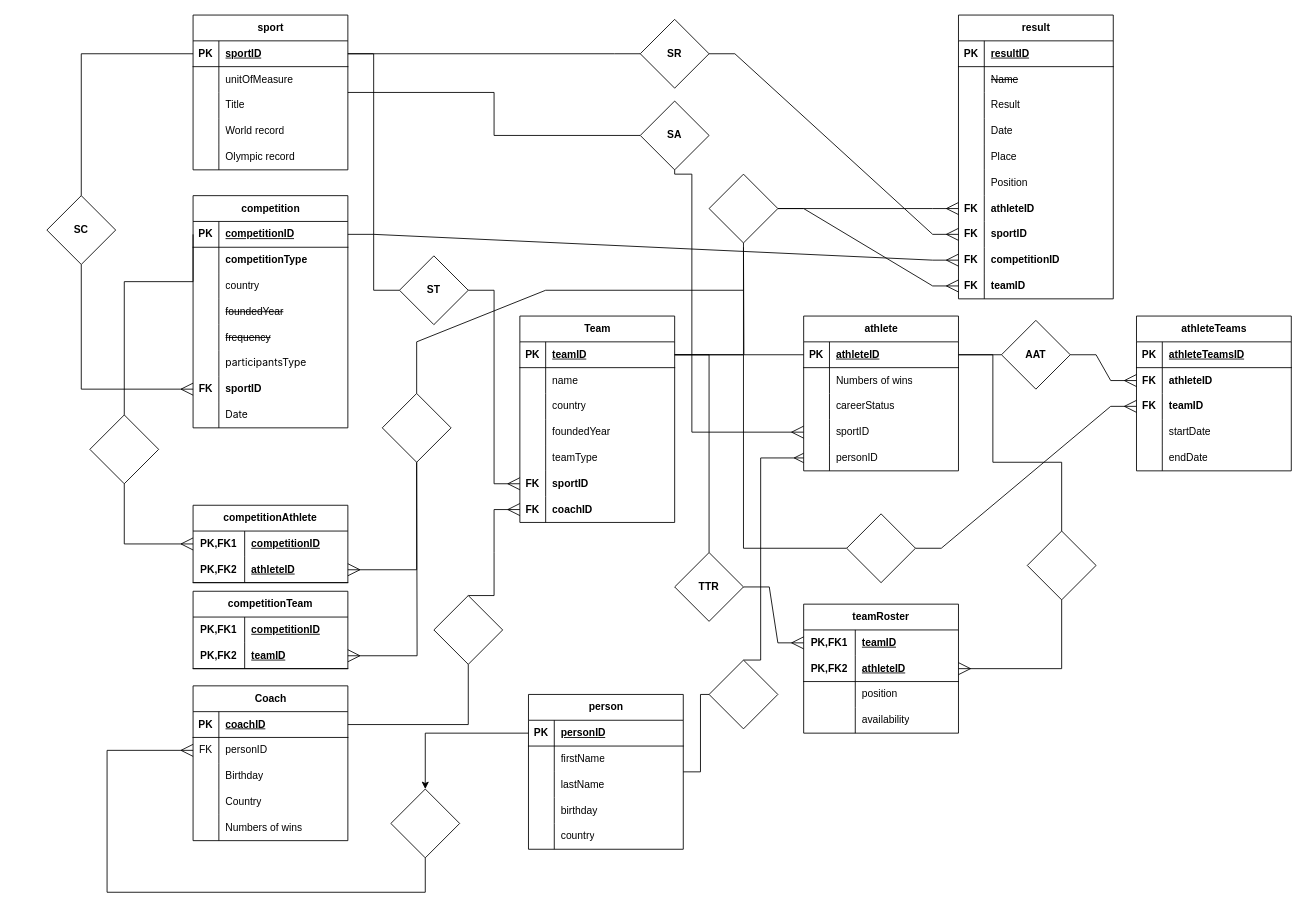
Image size: 1306x919. Some labels were removed from this diagram. Here are the shapes that lost their labels. From the top down, the centre of each, then its label:
At point (743, 208): "TAR/AR".
At point (416, 427): "TCP/ACP".
At point (124, 449): "CCP".
At point (880, 548): "TAT".
At point (1061, 565): "ATR".
At point (468, 629): "CoP".
At point (743, 694): "PA".
At point (425, 823): "PC".
